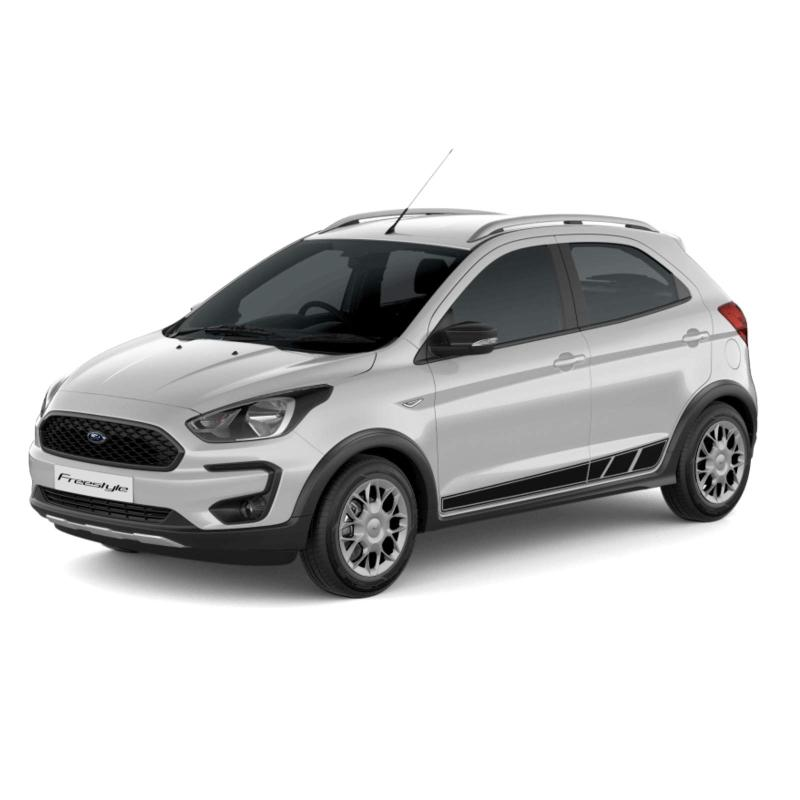car: (33, 188, 776, 641)
